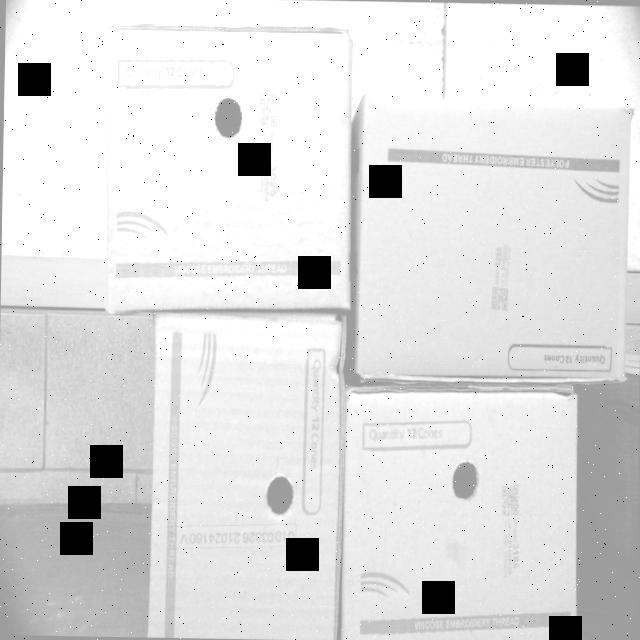box: (355, 94, 634, 385), (96, 17, 356, 314), (148, 316, 346, 640), (344, 383, 582, 640)
